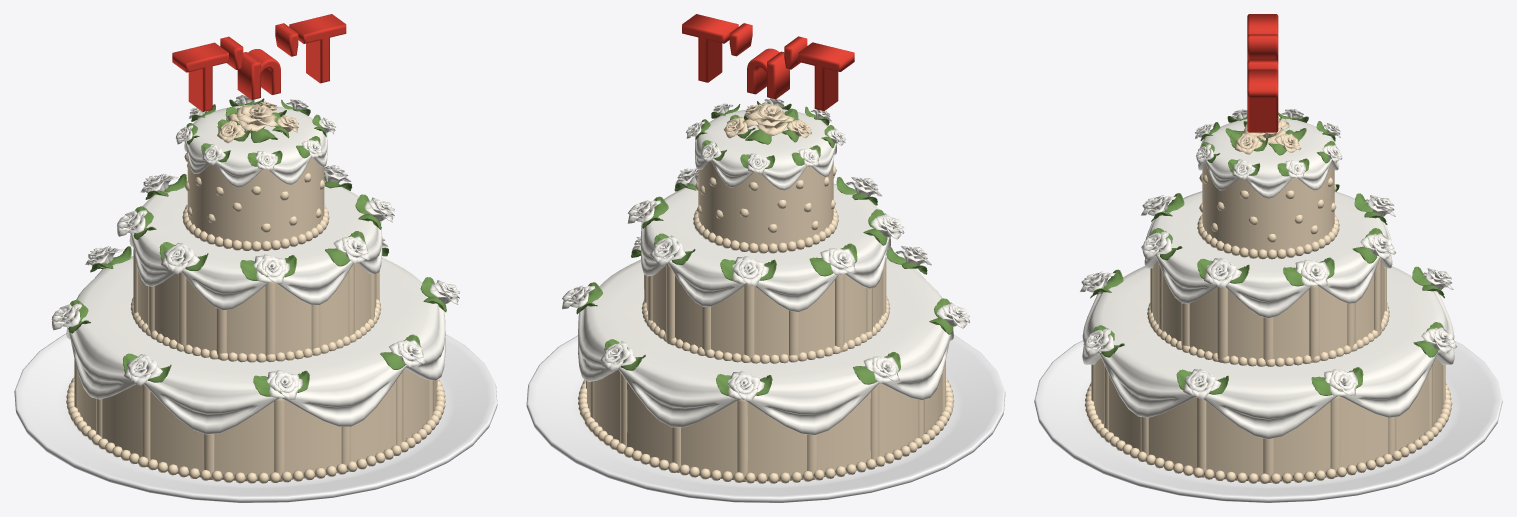
File: webmodelsmalltext.glb
The picture shows the model from 3 angles, left to right: view 1: azimuth 30°, elevation 25°; view 2: azimuth 150°, elevation 25°; view 3: azimuth 270°, elevation 25°; orthographic projection. The views are drawn at different scales.
Parts seen in each view (by area): view 1: Text; view 2: Text; view 3: Text.
Boxes of the visible parts, x1,y1,x2,y2 form: Text: (14, 14, 497, 502); Text: (526, 14, 1005, 502); Text: (1034, 14, 1502, 502).
Bounding box in the file's own units: 3.65 × 3.15 × 3.65.
